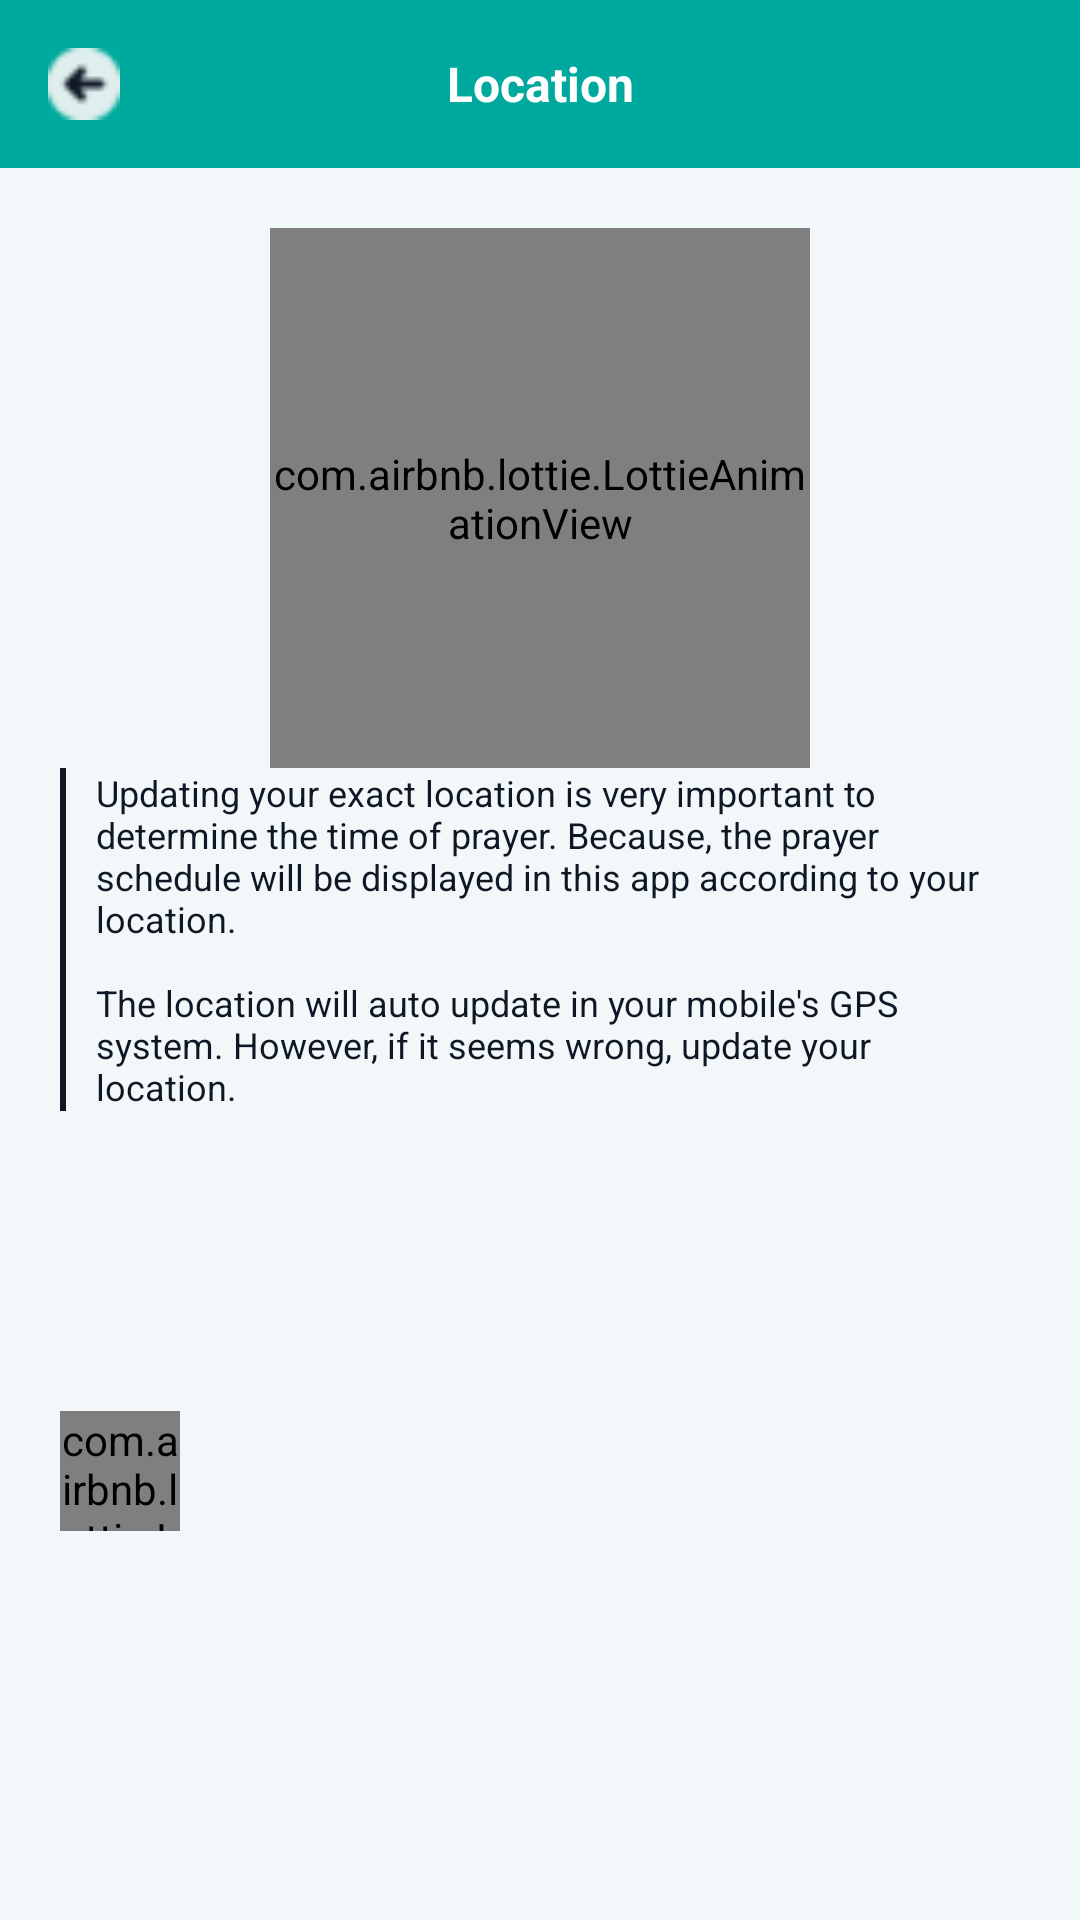

Named icons in this screenshot (1080px x 1920px) and their bounding boxes, {"left": x1, "top": y1, "right": x2, "bottom": y2}:
previous: {"left": 48, "top": 48, "right": 120, "bottom": 120}
